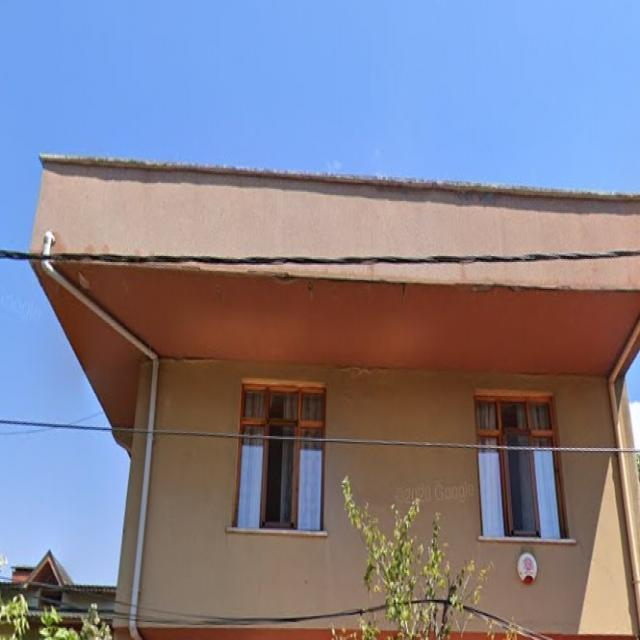Building: (27, 154, 640, 640)
